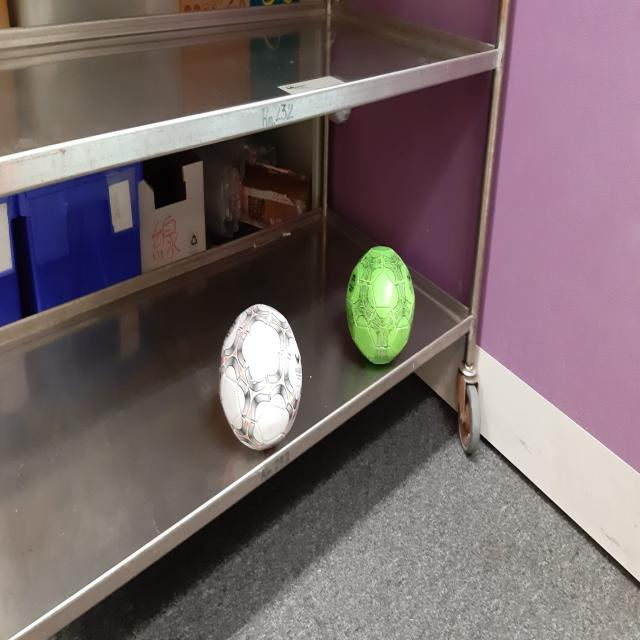ball: (221, 306, 302, 452), (345, 244, 415, 366)
